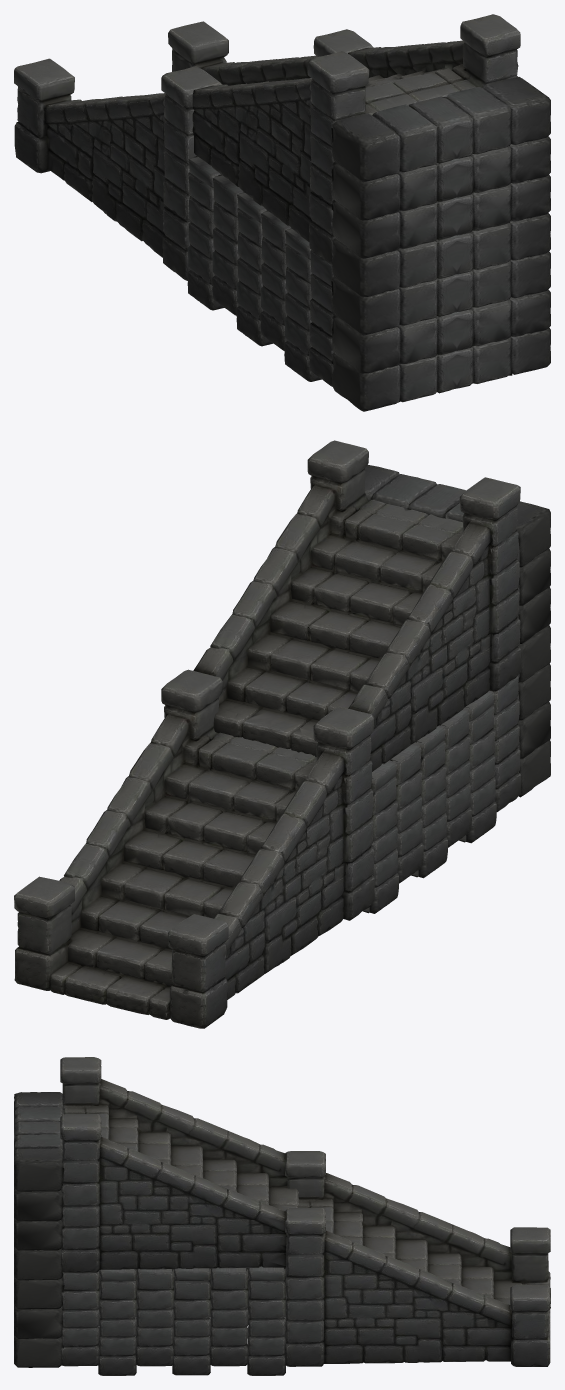
The model's file is Stairscase_02.fbx.
3 renders of one model, top to bottom at view 1: azimuth 30°, elevation 25°; view 2: azimuth 150°, elevation 25°; view 3: azimuth 270°, elevation 25°, orthographic. The views are drawn at different scales.
Visible parts, largest first — view 1: Stairs_02; view 2: Stairs_02; view 3: Stairs_02.
Boxes of the visible parts, x1,y1,x2,y2 form: Stairs_02: (14, 14, 550, 411); Stairs_02: (14, 440, 550, 1028); Stairs_02: (14, 1057, 550, 1375).
Size of the model in its own units: 279 by 450 by 879.
1 material, 1 textured.
